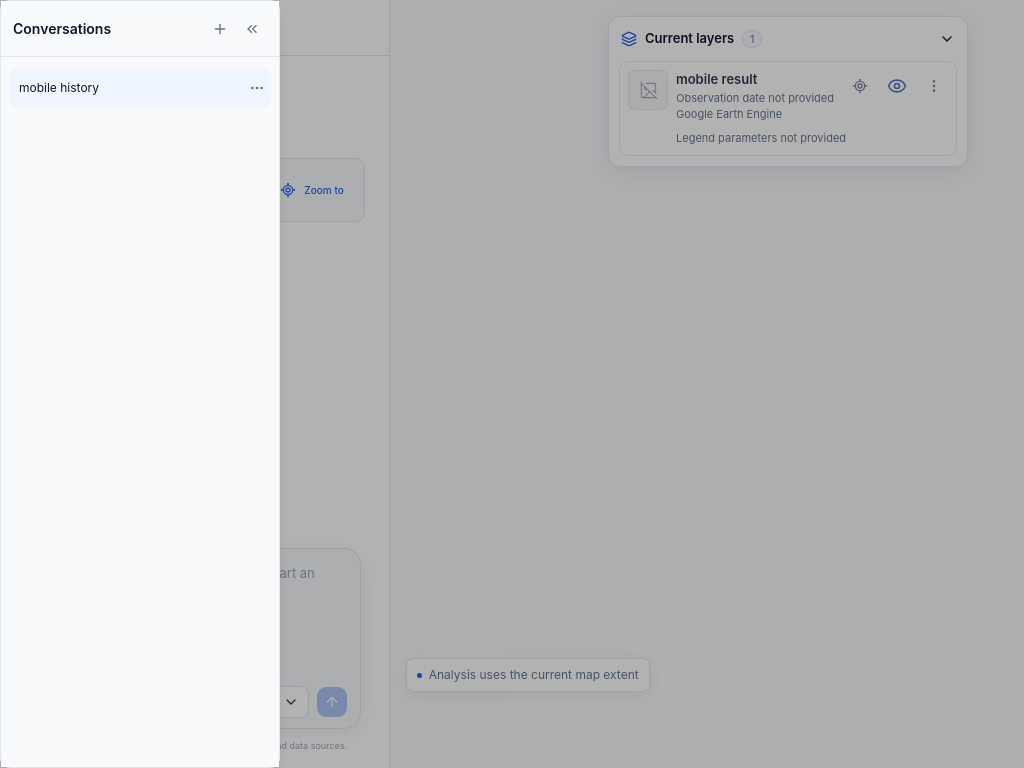
Test: narrow layout uses a working history dialog and result location opens the map
Earlier steps of the test are not shown.
Later steps or results of the test are not shown.
Expected: the dialog is shown, [0,0,280,767]
Expected: the dialog shows "mobile history", [9,69,243,107]
Click the button named "Collapse conversation history" at coordinates (252, 28), box [237,12,267,44]
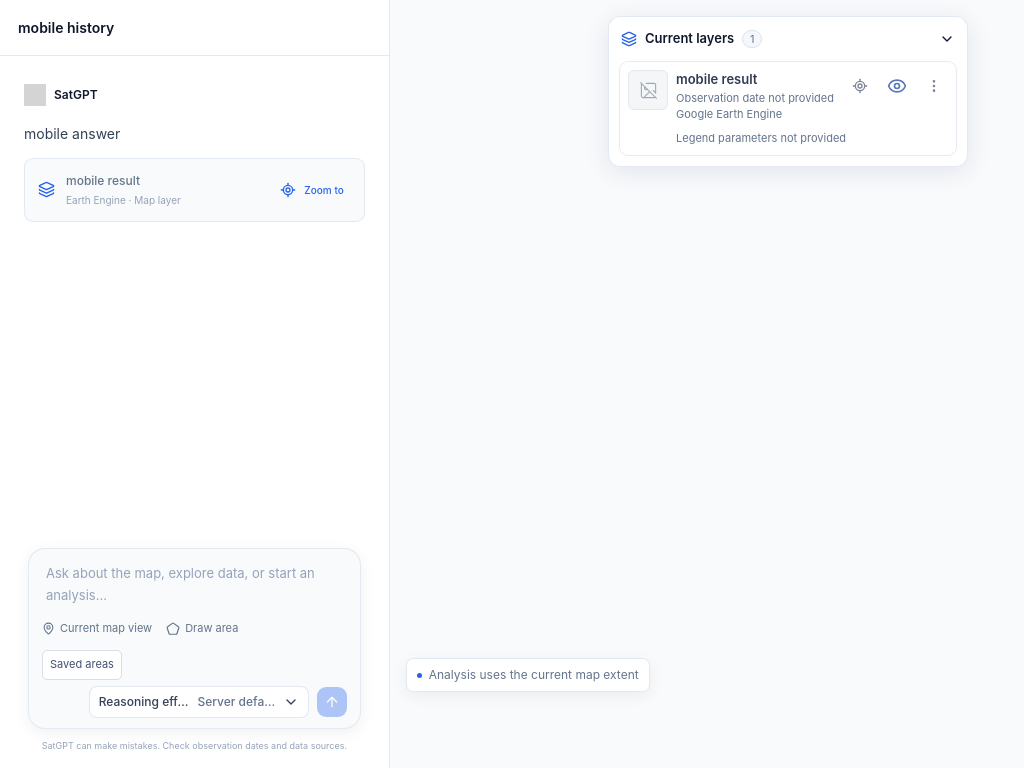
Result: the dialog is gone
